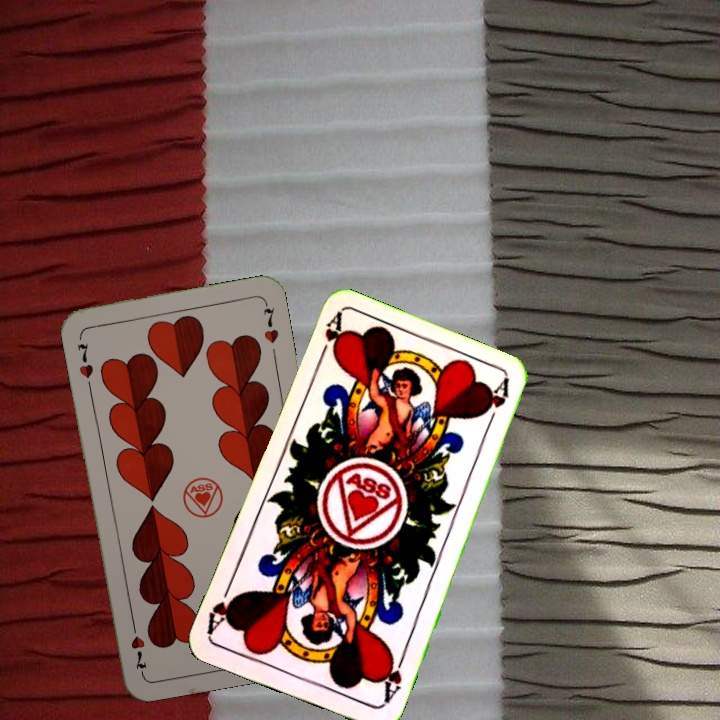H7: (73, 339, 96, 381)
HA: (313, 310, 347, 367), (377, 649, 408, 707)
